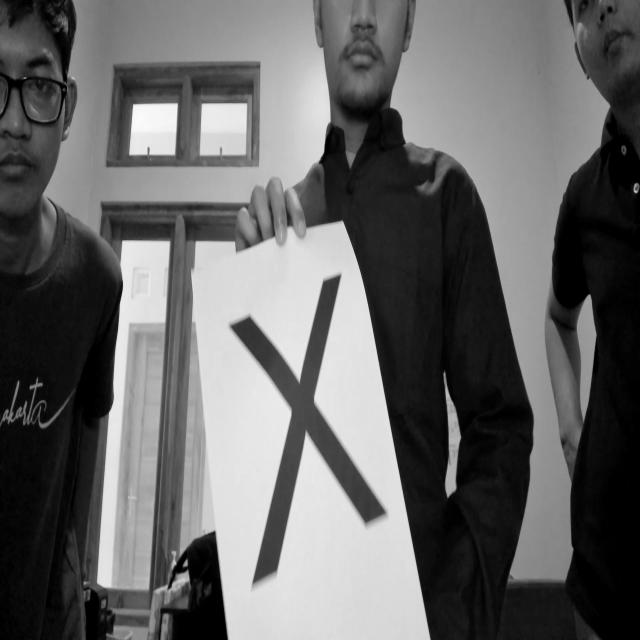x: (218, 266, 400, 596)
